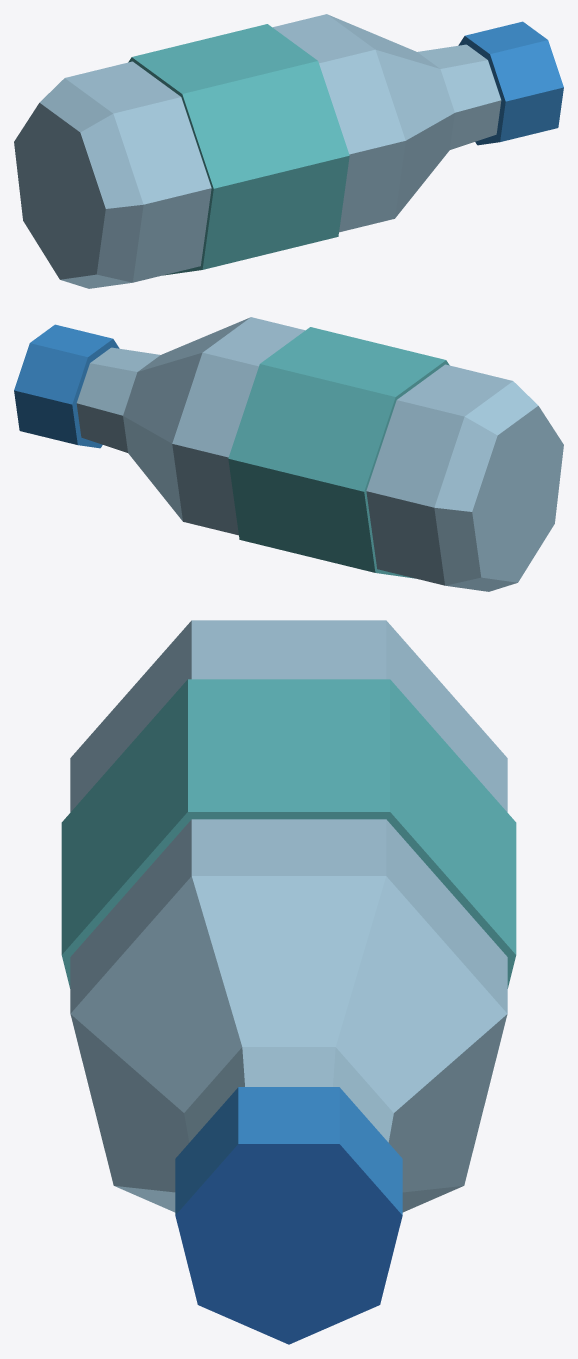
File: J_Bottle.fbx
3 views of the same model, one above another, from view 1: azimuth 30°, elevation 25°; view 2: azimuth 150°, elevation 25°; view 3: azimuth 270°, elevation 25° (orthographic). The views are drawn at different scales.
Parts seen in each view (by area): view 1: J_Bottle; view 2: J_Bottle; view 3: J_Bottle.
Boxes of the visible parts, x1,y1,x2,y2 form: J_Bottle: [14, 14, 563, 288]; J_Bottle: [14, 317, 563, 591]; J_Bottle: [61, 620, 516, 1344].
Size of the model in its own units: 0.49 by 0.1977 by 0.2028.
